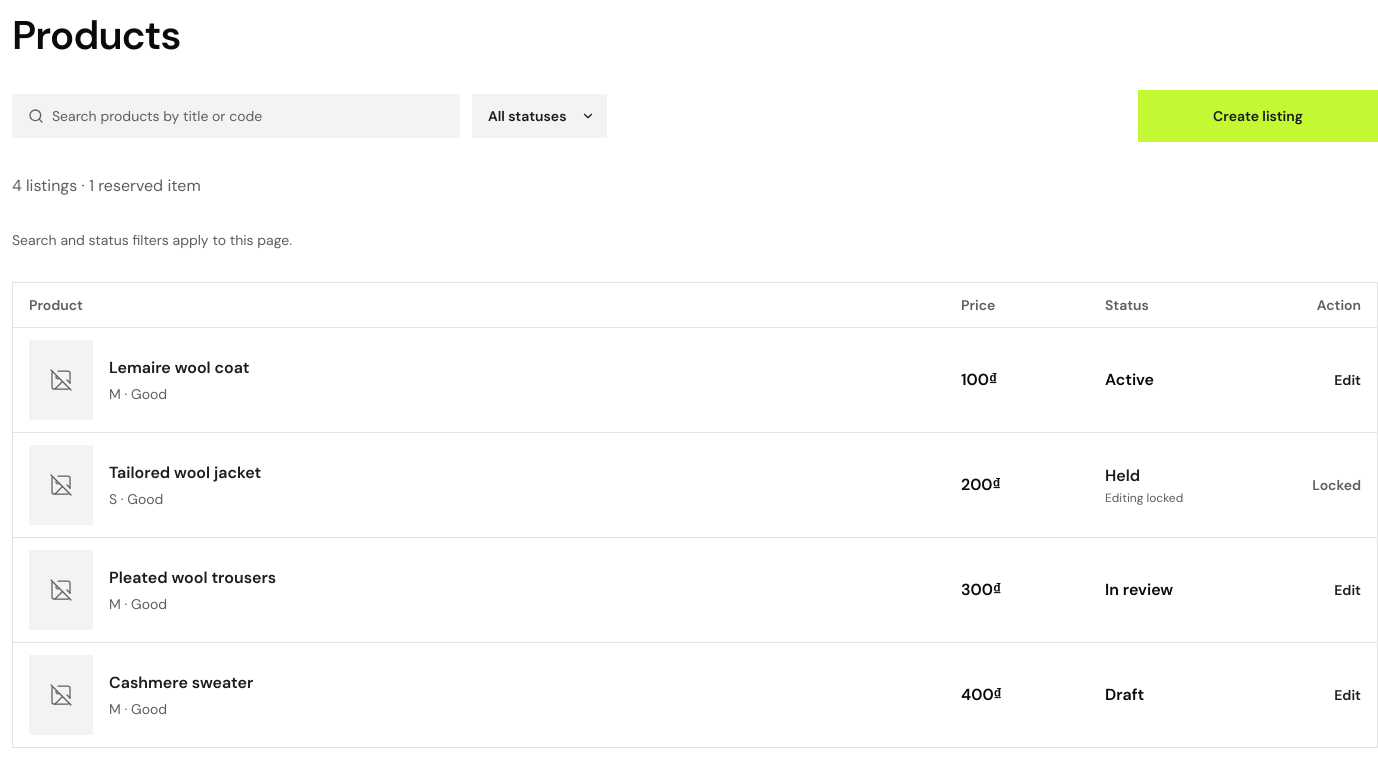
Test: SellerProductsPage › filters products correctly by status select dropdown
Select "Held" in the dropdown named "Filter by status". click: (540, 116)
box: [472,94,607,138]
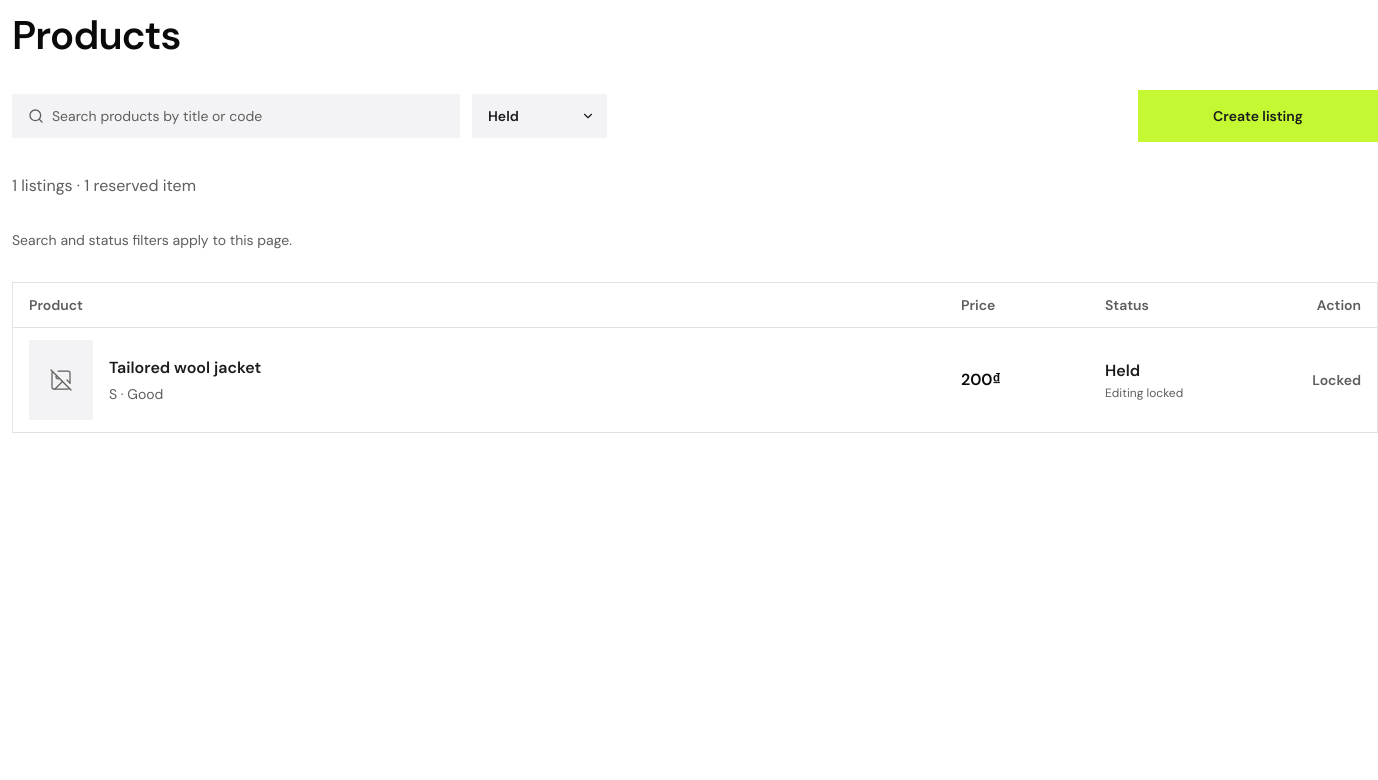
Check: the text "Tailored wool jacket" is shown, box [109,356,261,380]
Check: the text "Cashmere sweater" is gone
